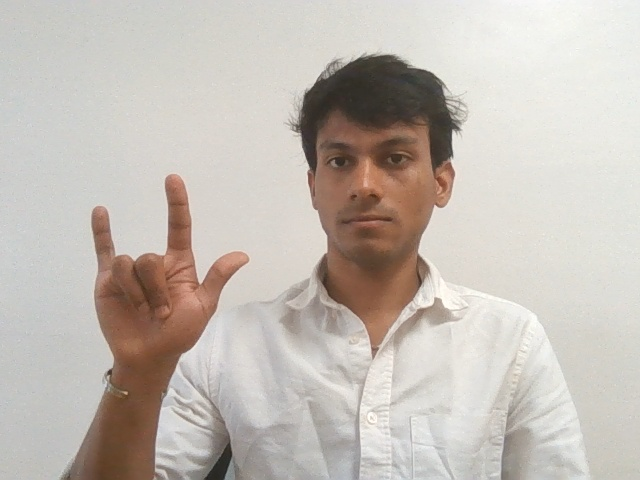ILoveYou: (81, 174, 254, 392)
